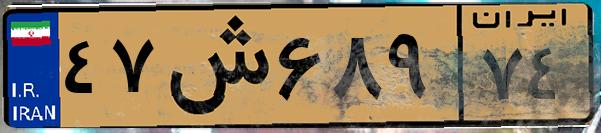4: (57, 26, 110, 100), (525, 38, 570, 115)
6: (270, 28, 330, 110)
7: (475, 38, 525, 113), (110, 28, 158, 98)
8: (330, 28, 385, 110)
9: (385, 28, 445, 110)
ش: (158, 12, 270, 120)
